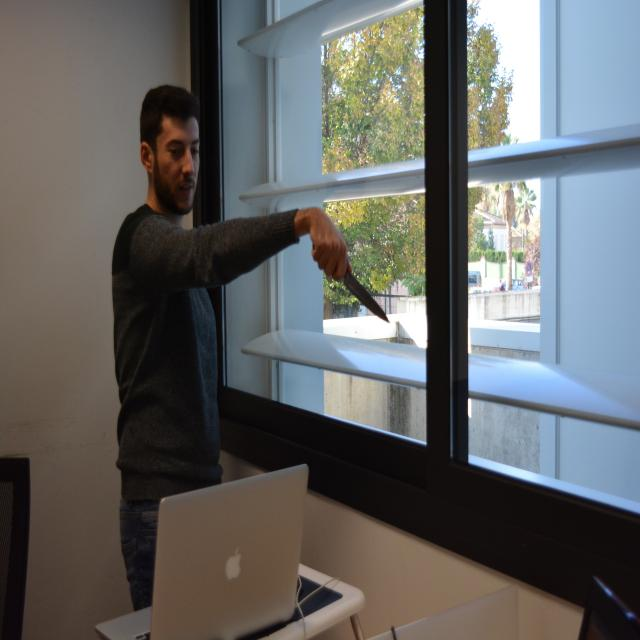knife: (345, 268, 396, 326)
